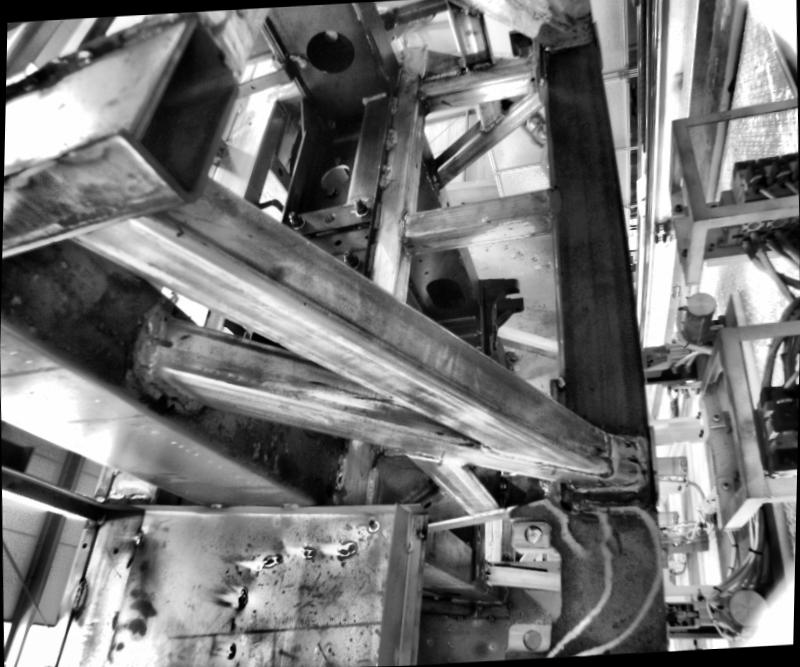bolt: (348, 195, 367, 218), (340, 248, 359, 270), (286, 207, 305, 228)
bracket: (472, 270, 526, 360)
hole: (304, 28, 354, 76), (424, 274, 468, 312), (316, 164, 349, 191), (520, 629, 542, 650), (521, 526, 543, 544), (150, 334, 172, 351), (320, 210, 336, 223), (627, 456, 636, 465), (110, 546, 118, 556), (332, 237, 340, 245), (80, 540, 86, 550), (528, 75, 535, 82), (406, 242, 414, 248), (416, 258, 423, 264), (422, 268, 428, 274), (363, 234, 366, 238), (446, 202, 447, 206)
welding: (140, 312, 172, 379), (565, 479, 652, 496), (637, 438, 651, 490), (68, 577, 86, 613), (602, 427, 614, 478), (544, 188, 560, 215), (376, 162, 390, 184), (397, 213, 406, 242), (204, 501, 224, 514), (382, 128, 394, 148), (277, 501, 301, 510), (388, 96, 398, 114), (134, 532, 143, 544)
